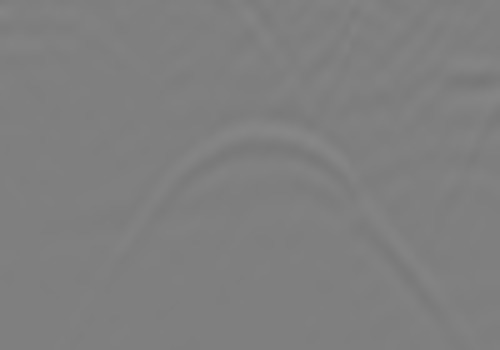hyperbola: (87, 115, 455, 305)
